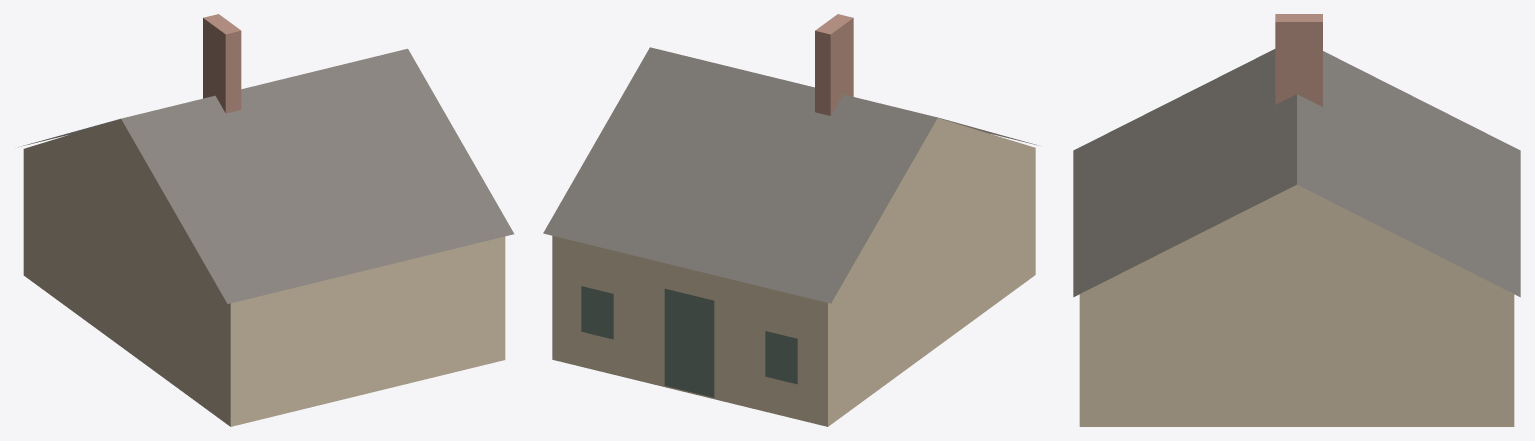
The model's file is recon_1835_south_d4_014__recommended_1835.glb.
The picture shows the model from 3 angles, left to right: view 1: azimuth 30°, elevation 25°; view 2: azimuth 150°, elevation 25°; view 3: azimuth 270°, elevation 25°; orthographic projection. The views are drawn at different scales.
Parts seen in each view (by area): view 1: recon_1835_south_d4_014__recommended_1835; view 2: recon_1835_south_d4_014__recommended_1835; view 3: recon_1835_south_d4_014__recommended_1835.
Part boxes in pixels (bbox=[...]): recon_1835_south_d4_014__recommended_1835: bbox=[18, 14, 514, 426]; recon_1835_south_d4_014__recommended_1835: bbox=[543, 14, 1038, 426]; recon_1835_south_d4_014__recommended_1835: bbox=[1073, 14, 1520, 426].
Size of the model in its own units: 6.6 by 6.65 by 8.49.
